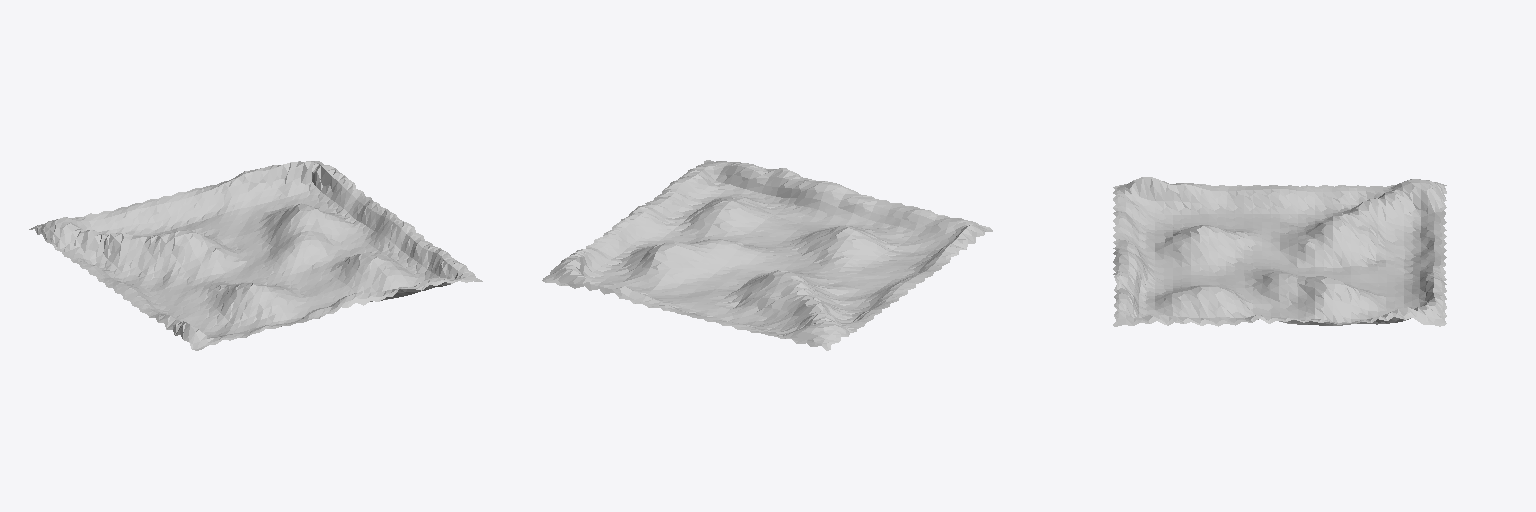
File: kopno.obj
3 renders of one model, left to right at view 1: azimuth 30°, elevation 25°; view 2: azimuth 150°, elevation 25°; view 3: azimuth 270°, elevation 25°, orthographic.
Visible parts, largest first — view 1: Plane001; view 2: Plane001; view 3: Plane001.
Part boxes in pixels (x1,y1,x2,y2): Plane001: (29, 161, 482, 350); Plane001: (542, 160, 992, 350); Plane001: (1113, 177, 1446, 326).
Bounding box in the file's own units: 398 × 37.5 × 397.